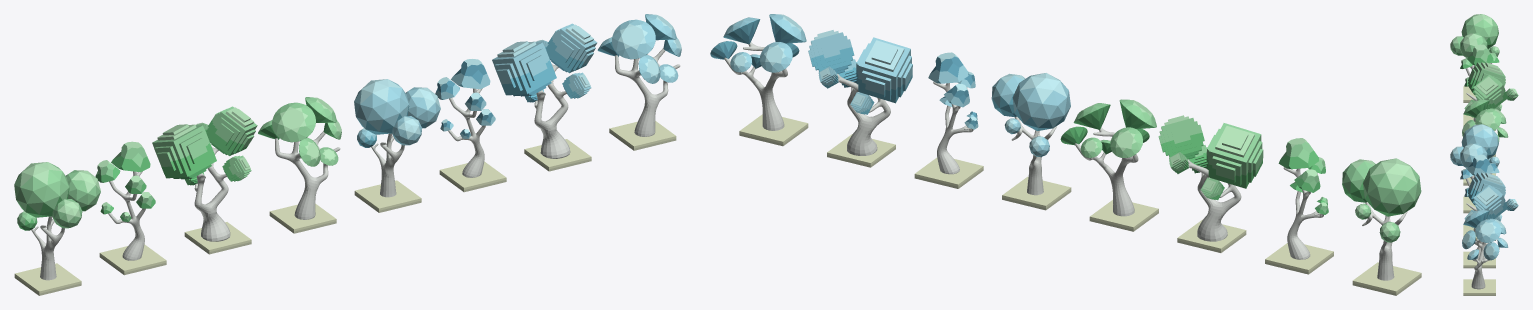
The model's file is GRSCSA1.fbx.
3 renders of one model, left to right at view 1: azimuth 30°, elevation 25°; view 2: azimuth 150°, elevation 25°; view 3: azimuth 270°, elevation 25°, orthographic. The views are drawn at different scales.
Parts seen in each view (by area): view 1: 立方體.004, 立方體.006, Ico 球體, Ico 球體.005, 立方體.007, 立方體.001, Vert.006, Vert.002, dobj, dobj.007, Vert.007, Vert.004 (+24 smaller); view 2: 立方體.004, 立方體.006, Ico 球體, Ico 球體.005, 立方體.001, 立方體.007, Vert.002, Vert.006, Vert.007, Vert.004, 平面, 平面.005 (+20 smaller); view 3: Ico 球體.005, Ico 球體, 立方體.001, 立方體.007, 立方體.004, 立方體.006, dobj.008, 平面.008, Vert.007, Ico 球體.006, Ico 球體.001, dobj.001 (+29 smaller).
Part boxes in pixels (x1,y1,x2,y2): 立方體.004: (152,124,216,179); 立方體.006: (492,41,556,96); Ico 球體: (14,162,69,217); Ico 球體.005: (354,79,409,134); 立方體.007: (546,23,597,73); 立方體.001: (206,106,257,155); Vert.006: (534,64,570,158); Vert.002: (194,147,230,241); dobj: (272,102,315,142); dobj.007: (612,19,655,59); Vert.007: (615,48,680,136); Vert.004: (275,131,340,219); 立方體.004: (1206,123,1263,188); 立方體.006: (856,37,912,103); Ico 球體: (1363,158,1421,216); Ico 球體.005: (1012,73,1070,130); 立方體.001: (1158,115,1204,159); 立方體.007: (808,30,854,73); Vert.002: (1187,159,1241,241); Vert.006: (837,73,890,155); Vert.007: (724,42,787,130); Vert.004: (1074,127,1138,216); 平面: (1352,262,1421,295); 平面.005: (1002,176,1071,210); Ico 球體.005: (1461,124,1498,158); Ico 球體: (1461,14,1498,48); 立方體.001: (1473,74,1507,109); 立方體.007: (1473,185,1507,219); 立方體.004: (1468,62,1505,94); 立方體.006: (1468,172,1505,205); dobj.008: (1475,219,1501,242); 平面.008: (1463,279,1495,295); Vert.007: (1471,239,1499,289); Ico 球體.006: (1460,143,1487,168); Ico 球體.001: (1460,33,1487,58); dobj.001: (1475,109,1501,130).
Size of the model in its own units: 3167 by 560 by 420.
